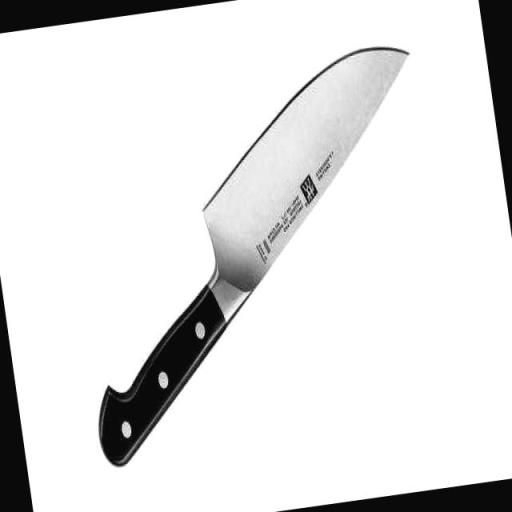knife: (37, 22, 469, 475)
